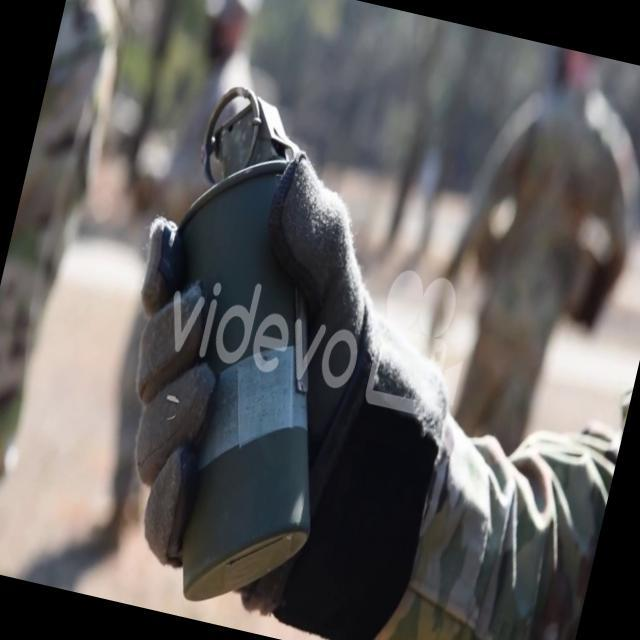grenade: (93, 81, 404, 623)
